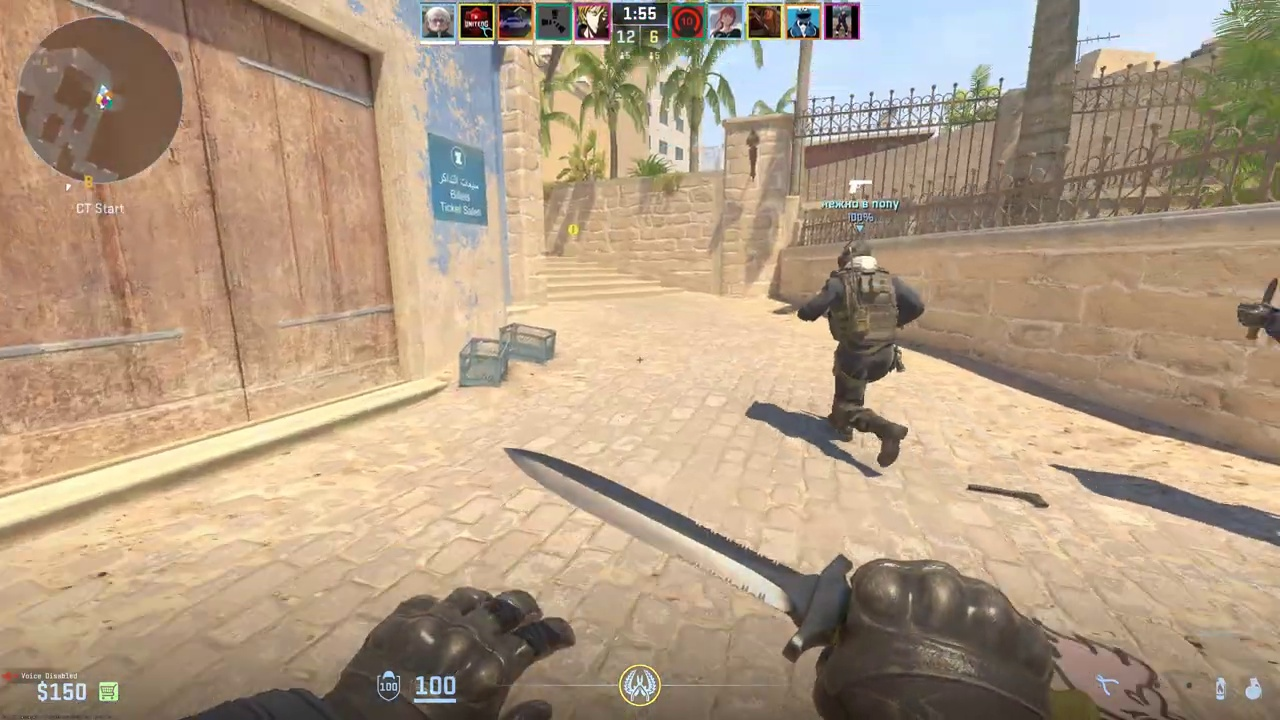CT: (812, 240, 911, 467)
